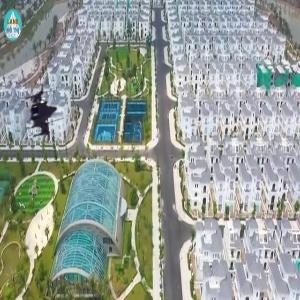drone: (7, 81, 75, 149)
